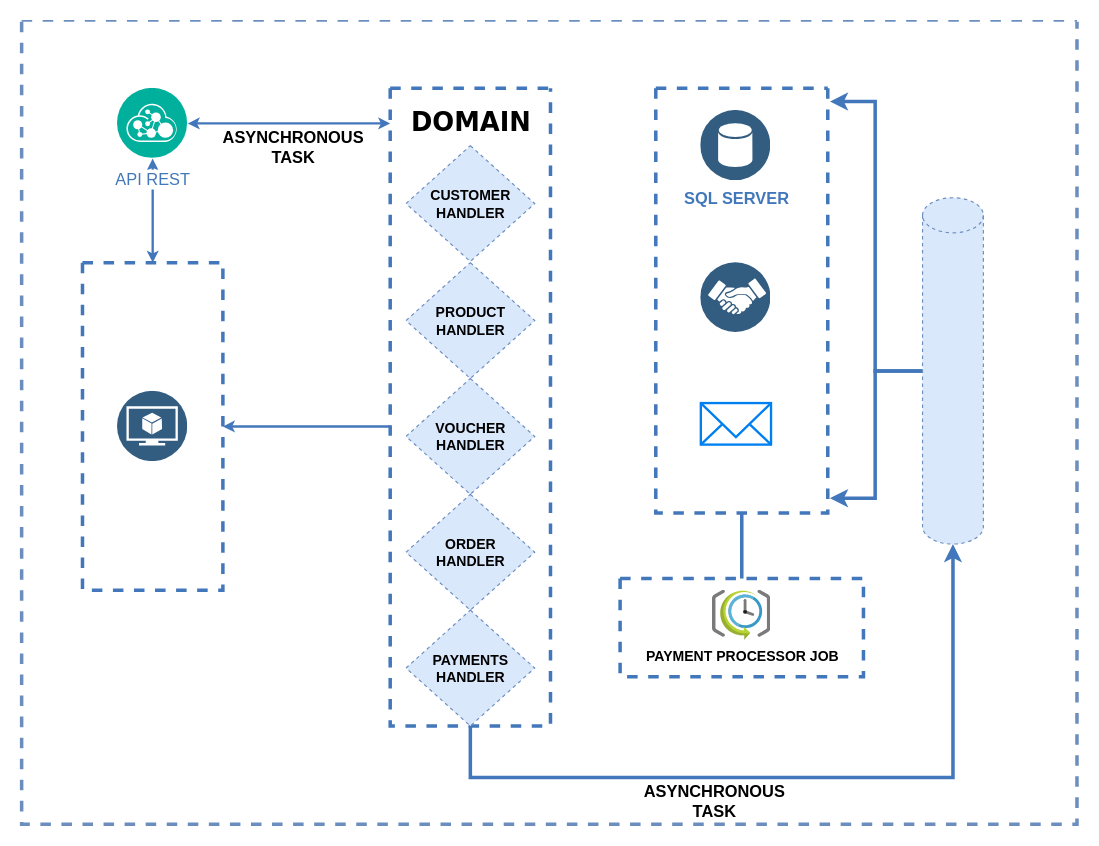
The diagram is 1099 pixels wide and 846 high, and some of its shapes have lost their labels. Each missing label, with the box of its shape:
EMAIL SERVICE: (699, 401, 772, 445)
PAGSEGURO: (700, 262, 770, 332)
RABBITMQ: (921, 197, 983, 544)
SPA REACT: (117, 391, 187, 461)
